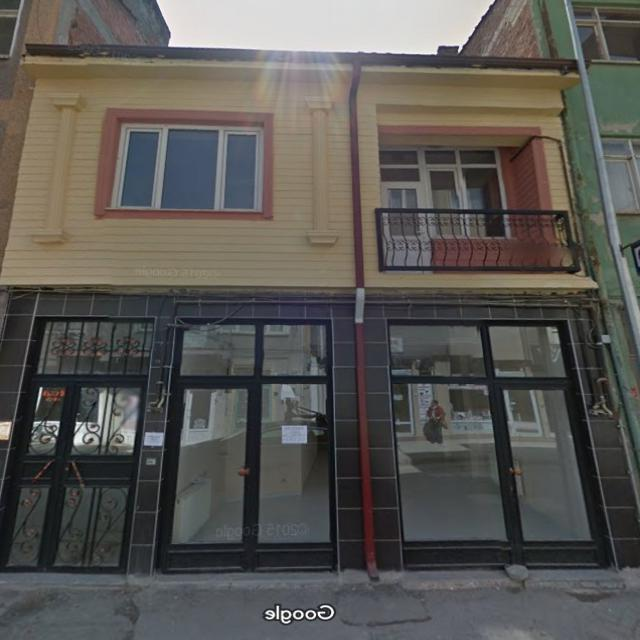Building: (0, 42, 640, 580)
